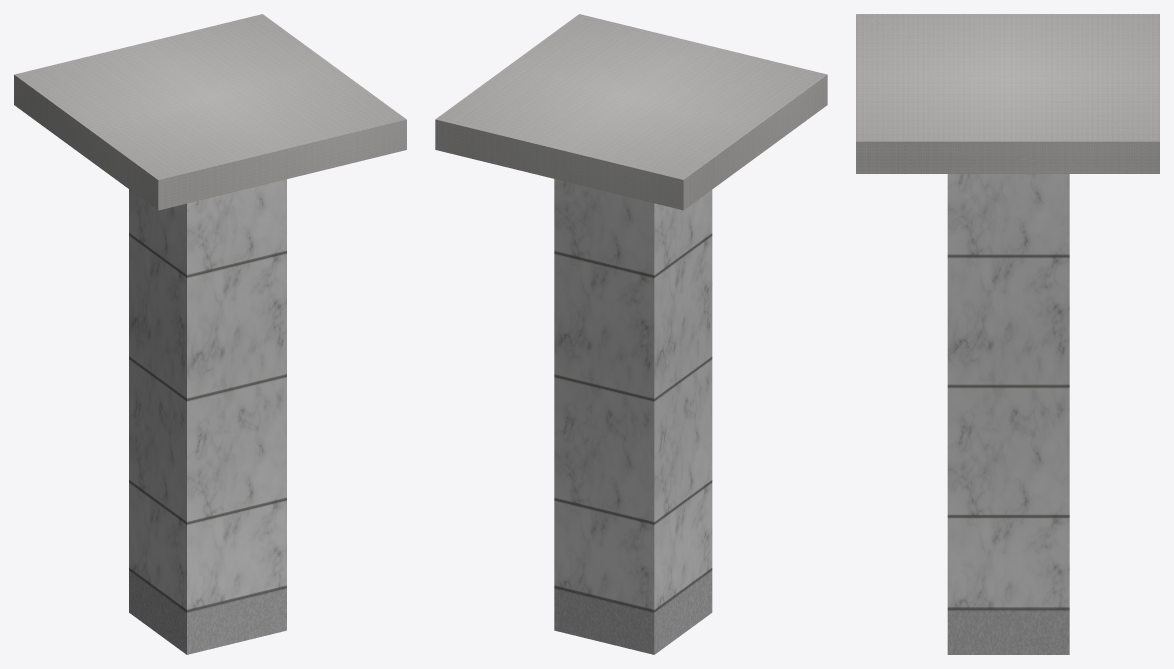
File: Subway02_InterCalumn01.FBX
3 renders of one model, left to right at view 1: azimuth 30°, elevation 25°; view 2: azimuth 150°, elevation 25°; view 3: azimuth 270°, elevation 25°, orthographic. The views are drawn at different scales.
Visible parts, largest first — view 1: Subway02_InterCalumn01, Subway02_InterCalumn02; view 2: Subway02_InterCalumn01, Subway02_InterCalumn02; view 3: Subway02_InterCalumn01, Subway02_InterCalumn02.
Boxes of the visible parts, bbox=[...] form: Subway02_InterCalumn01: bbox=[129, 179, 286, 654]; Subway02_InterCalumn02: bbox=[14, 14, 406, 210]; Subway02_InterCalumn01: bbox=[554, 179, 712, 654]; Subway02_InterCalumn02: bbox=[435, 14, 827, 210]; Subway02_InterCalumn01: bbox=[947, 174, 1069, 654]; Subway02_InterCalumn02: bbox=[856, 14, 1159, 173].
Bounding box in the file's own units: 2978 × 6001 × 2992.
